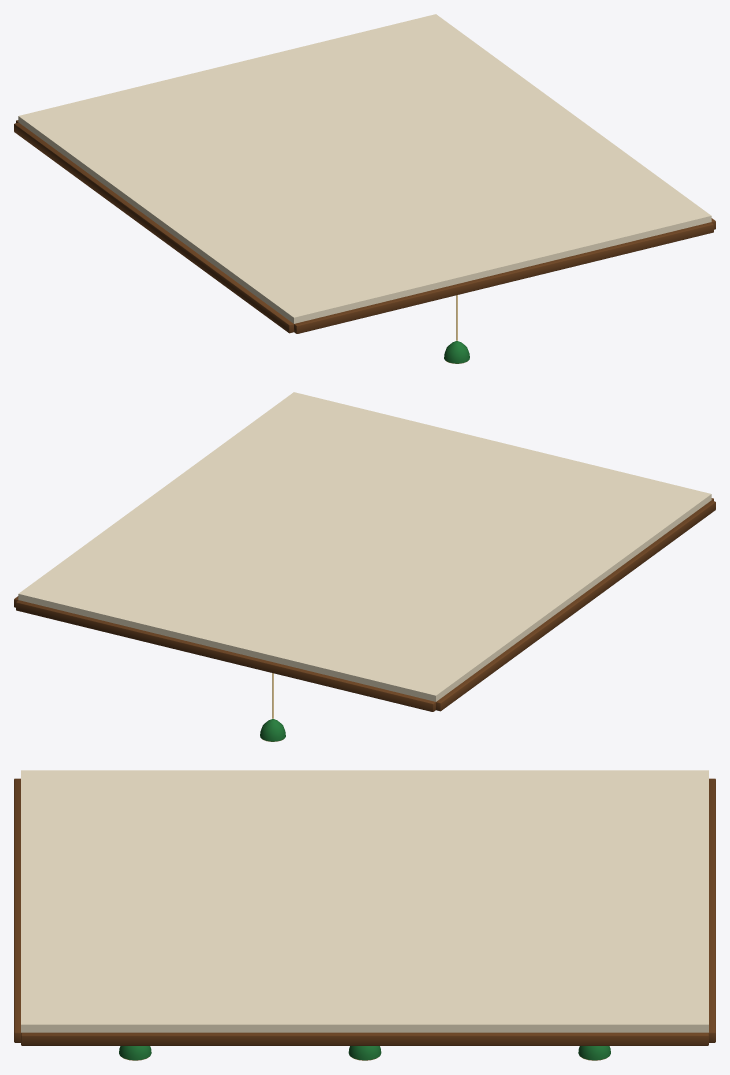
File: CeilingOrchard.fbx
The picture shows the model from 3 angles, top to bottom: view 1: azimuth 30°, elevation 25°; view 2: azimuth 150°, elevation 25°; view 3: azimuth 270°, elevation 25°; orthographic projection. The views are drawn at different scales.
Parts seen in each view (by area): view 1: CeilingOrchard; view 2: CeilingOrchard; view 3: CeilingOrchard.
Part boxes in pixels (bbox=[...]): CeilingOrchard: bbox=[14, 14, 715, 363]; CeilingOrchard: bbox=[14, 392, 715, 741]; CeilingOrchard: bbox=[14, 770, 715, 1060].
Bounding box in the file's own units: 7160 × 2020 × 8160.
